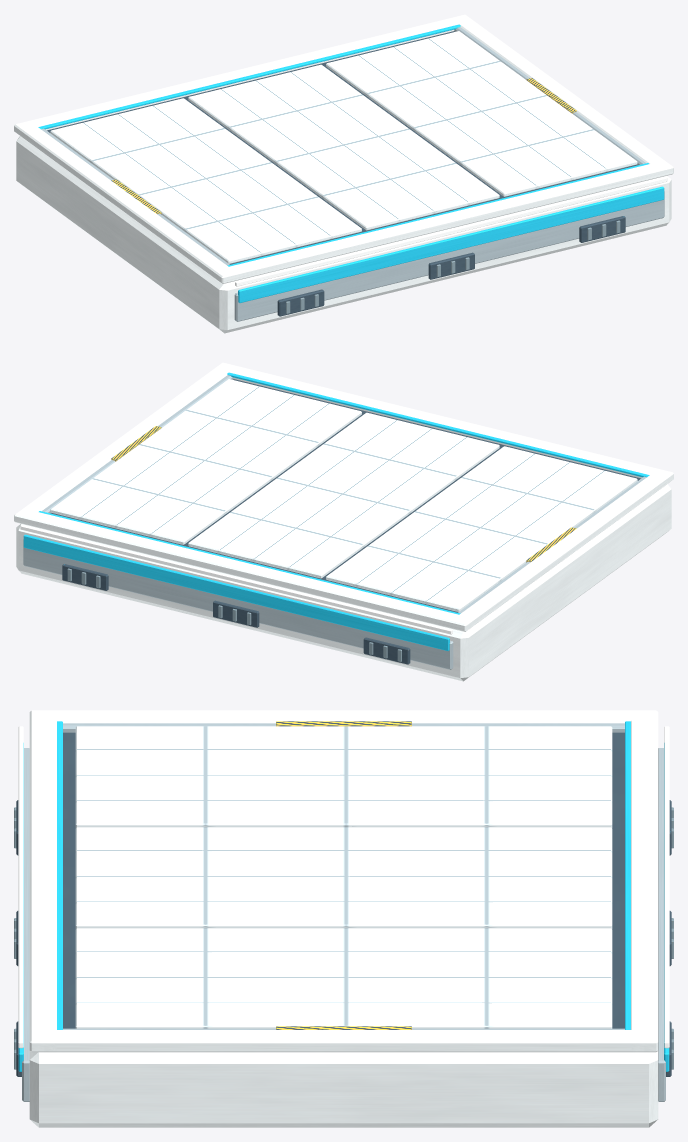
The model's file is platform-blue-3m.glb.
3 views of the same model, one above another, from view 1: azimuth 30°, elevation 25°; view 2: azimuth 150°, elevation 25°; view 3: azimuth 270°, elevation 25° (orthographic). The views are drawn at different scales.
Visible parts, largest first — view 1: platform-blue-3m; view 2: platform-blue-3m; view 3: platform-blue-3m.
Boxes of the visible parts, x1,y1,x2,y2 form: platform-blue-3m: (14, 14, 673, 333); platform-blue-3m: (14, 362, 673, 681); platform-blue-3m: (14, 710, 673, 1127).
Bounding box in the file's own units: 3 × 0.5375 × 2.52.
1 material, 1 textured.
